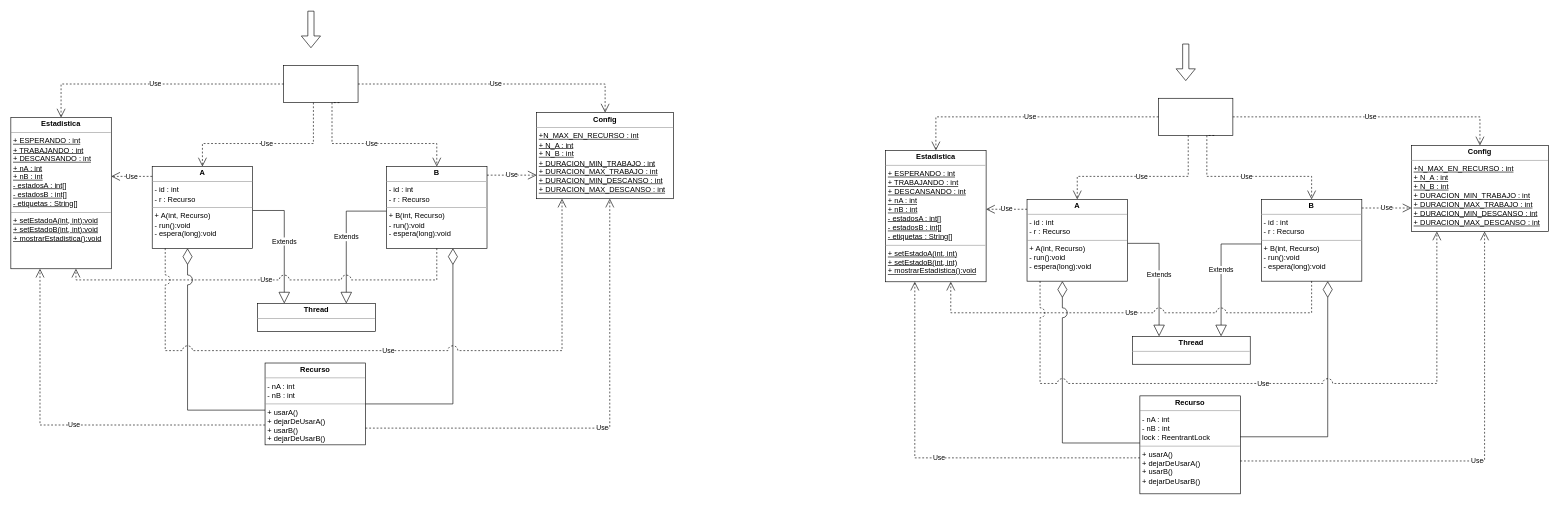
Image size: 1559x505. Some labels were removed from this diagram. The box of each missing label's shape, as (x1, y1, x2, y2) in pixels:
Reto7_7_A + main(String): (283, 65, 358, 103)
Reto7_7_B + main(String): (1158, 98, 1233, 135)
